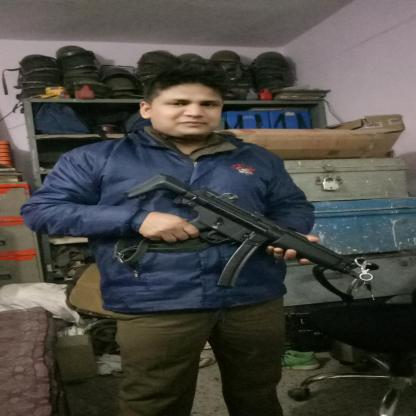rifle: (119, 170, 384, 289)
